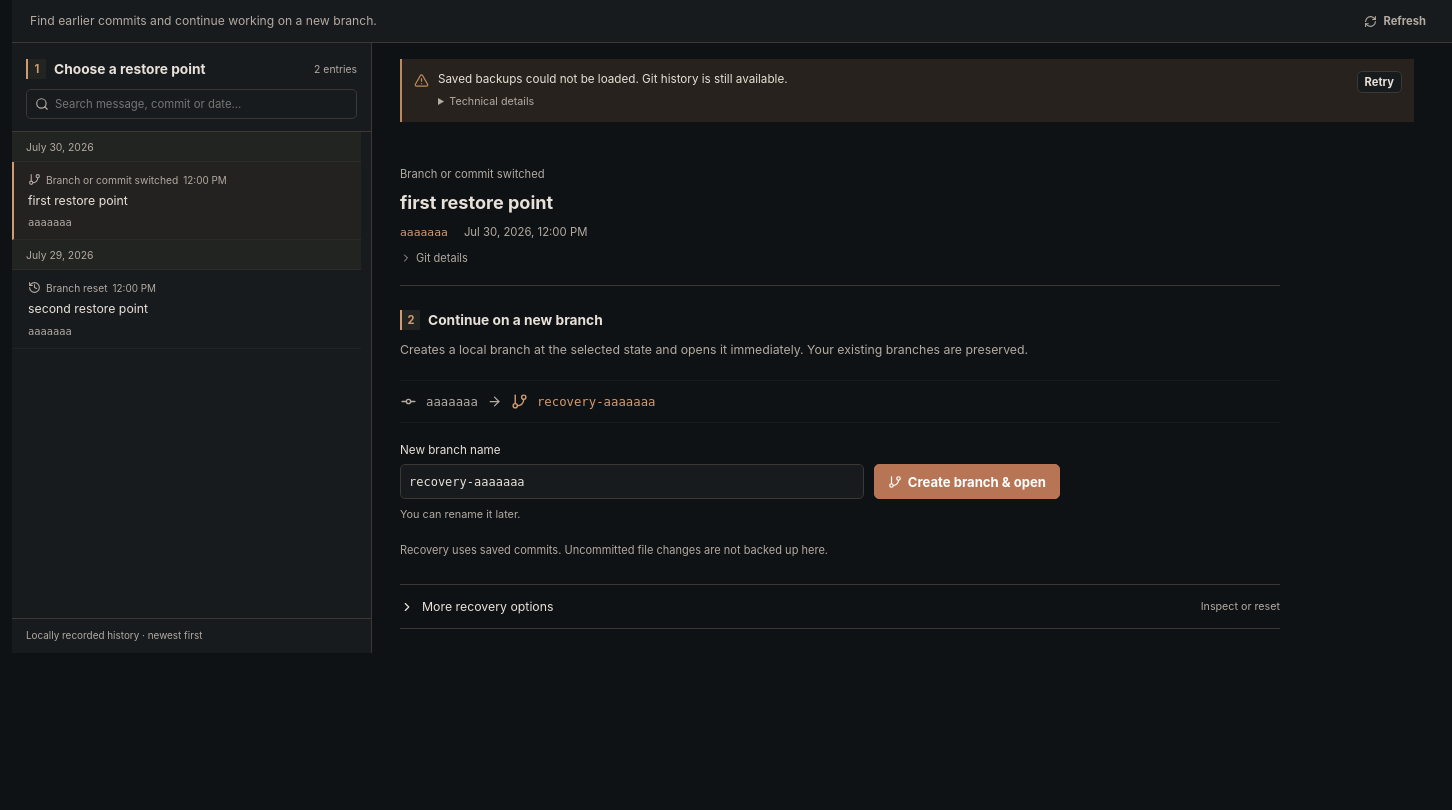
it: RecoveryCenter › keeps available history when backups fail and exposes the failure with retry and collapsed details
Expected: the number of buttons with class "recovery-center__history-item" is 2, x1=12 y1=162 x2=361 y2=240; x1=12 y1=270 x2=361 y2=349
Expected: the message shows "Git history is still available", x1=438 y1=72 x2=788 y2=86
Click the button "Retry" at (1379, 82), box x1=1356 y1=71 x2=1402 y2=93
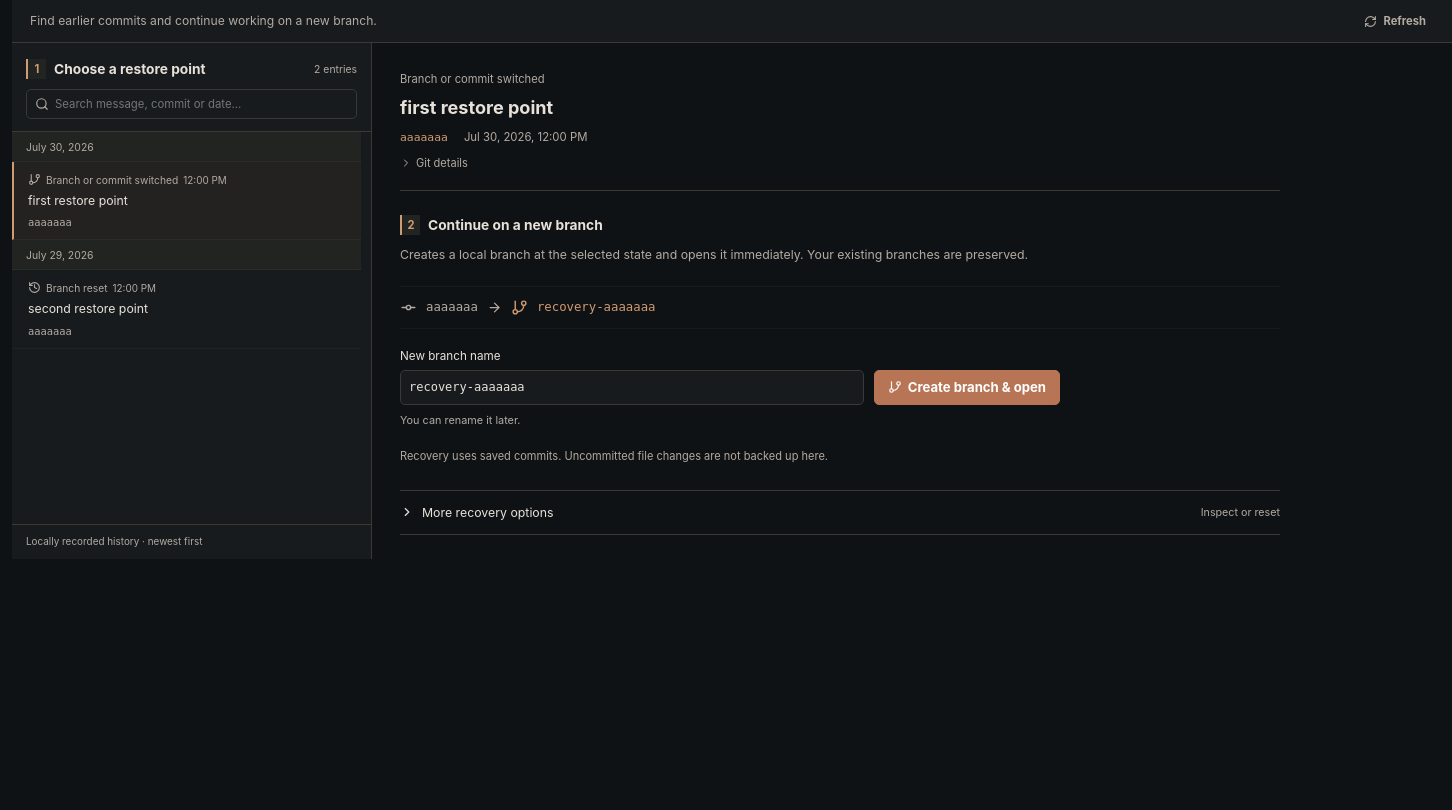
Result: the message is gone
